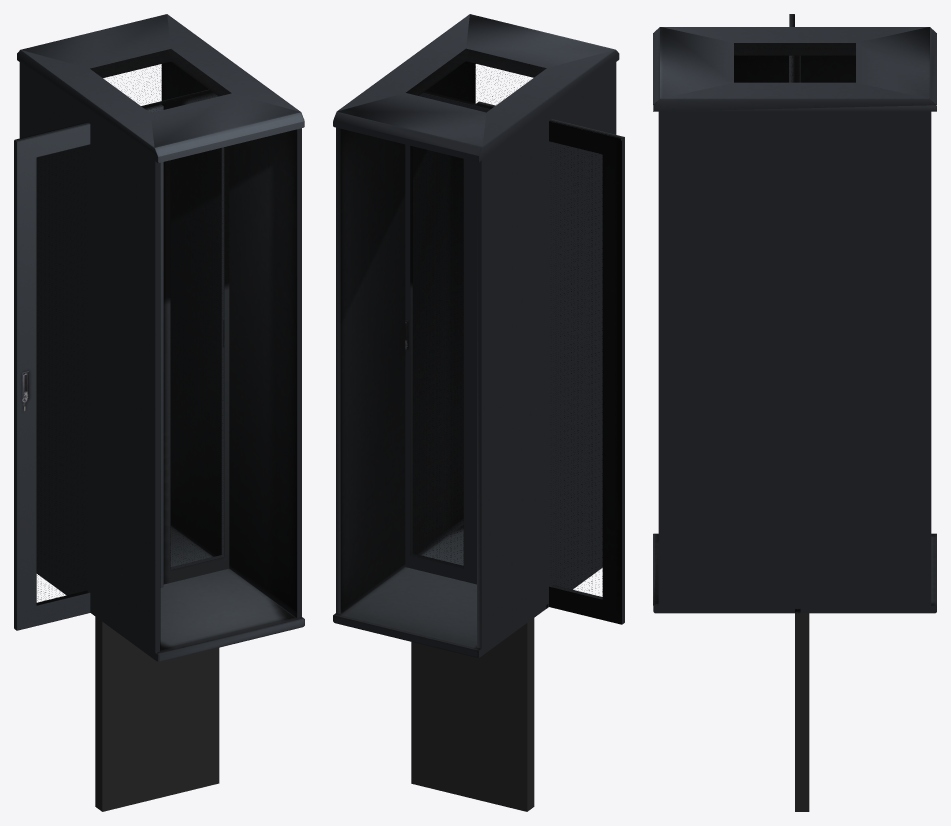
Rendered from jigui004.FBX.
The picture shows the model from 3 angles, left to right: view 1: azimuth 30°, elevation 25°; view 2: azimuth 150°, elevation 25°; view 3: azimuth 270°, elevation 25°; orthographic projection.
Visible parts, largest first — view 1: jigui001_body, fuwuqi003, jigui001_door, jigui001_doorR; view 2: jigui001_body, fuwuqi003, jigui001_door, jigui001_doorR, jigui001_doorL; view 3: jigui001_body, fuwuqi003.
Part boxes in pixels (x1,y1,x2,y2): jigui001_body: [17, 14, 304, 661]; fuwuqi003: [95, 616, 219, 811]; jigui001_door: [14, 104, 163, 630]; jigui001_doorR: [158, 89, 229, 584]; jigui001_body: [333, 14, 619, 657]; fuwuqi003: [411, 618, 534, 811]; jigui001_door: [476, 101, 624, 624]; jigui001_doorR: [405, 91, 475, 583]; jigui001_doorL: [473, 103, 548, 608]; jigui001_body: [653, 27, 936, 613]; fuwuqi003: [795, 613, 809, 811].
Bounding box in the file's own units: 90 × 280 × 100.
